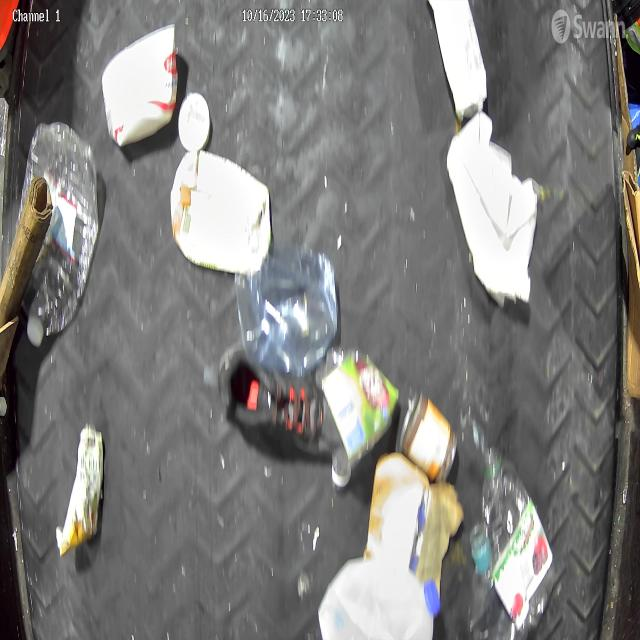can: (394, 394, 460, 494)
milk_jug: (166, 150, 270, 271), (318, 557, 446, 640)
plastic_bottle: (17, 118, 98, 344)
